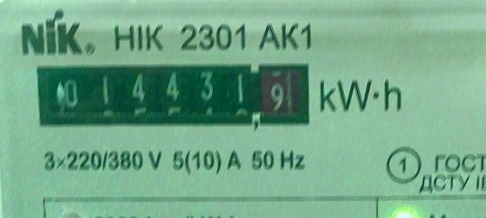0: (61, 76, 83, 109)
1: (98, 72, 117, 105), (235, 71, 249, 104)
3: (198, 70, 218, 103)
4: (129, 70, 151, 103), (164, 68, 183, 103)
9: (268, 80, 286, 112)
screen: (28, 47, 325, 143)
